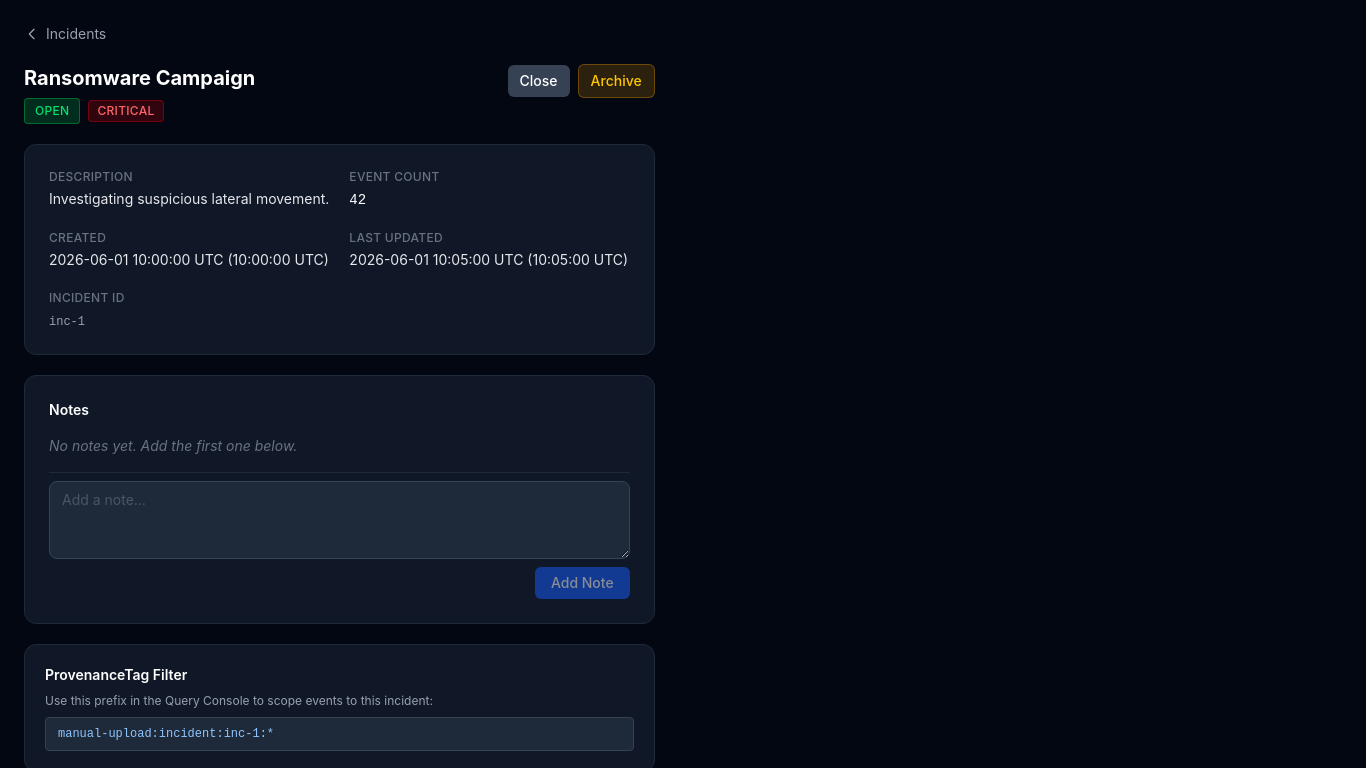
IncidentDetailPage — status confirmation + toast (FR #18) › clicking Archive shows a confirmation dialog
This screenshot has width=1366, height=768.
Click the button "Archive": [616, 81] box [578,64,655,98]
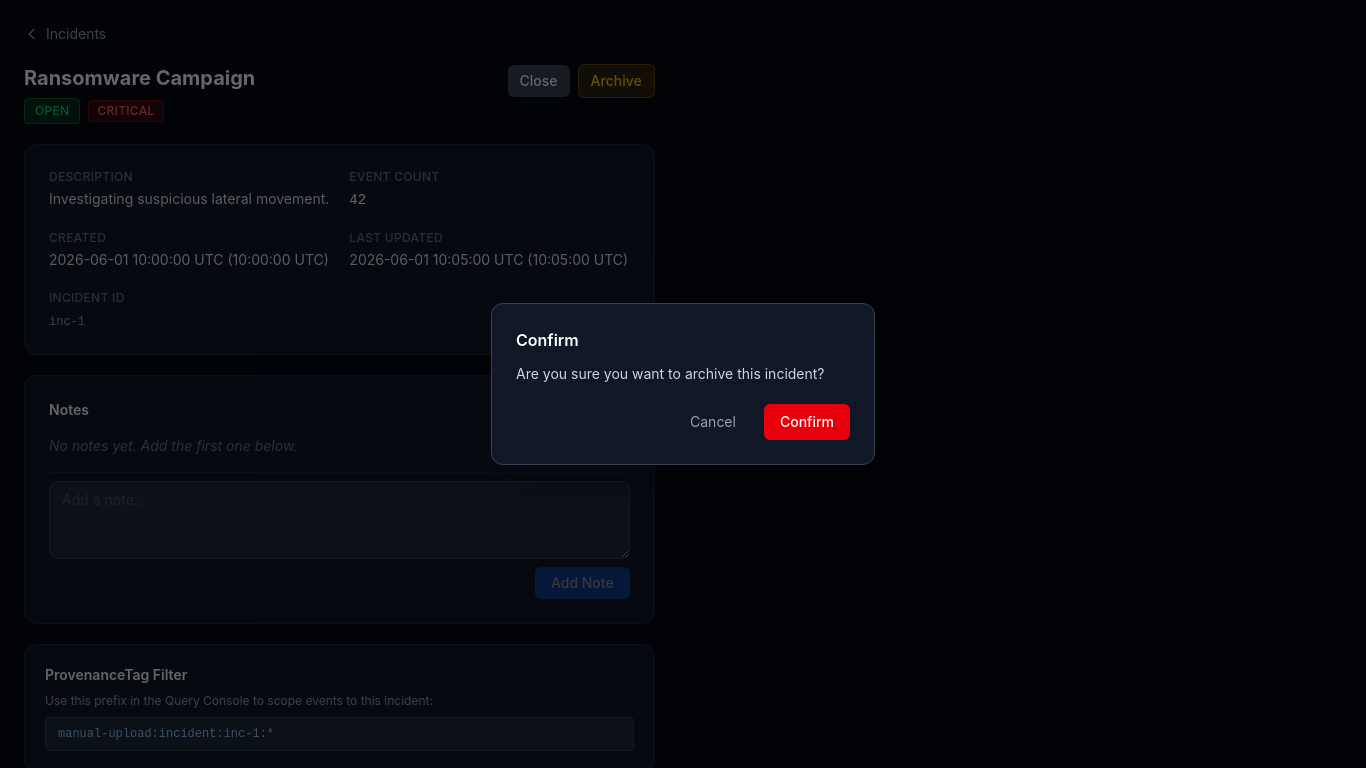
Now the dialog is shown
Now the text "Are you sure you want to archive this incident?" is shown, box [516,364,850,384]
